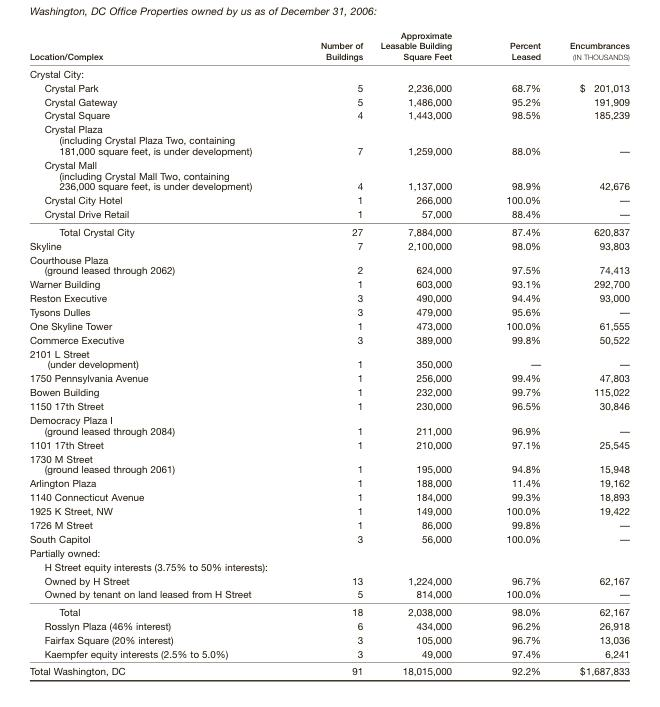table: (28, 29, 628, 676)
table column: (28, 29, 285, 676), (371, 29, 478, 676), (285, 29, 371, 676), (478, 29, 554, 676), (554, 29, 628, 676)
table column header: (28, 29, 628, 64)
table projected row header: (28, 64, 628, 80), (28, 545, 628, 559), (28, 559, 628, 572)
table row: (28, 121, 628, 157), (28, 29, 628, 64), (28, 157, 628, 192), (28, 251, 628, 276), (28, 412, 628, 437), (28, 346, 628, 370), (28, 451, 628, 475), (28, 64, 628, 80), (28, 206, 628, 222), (28, 222, 628, 238), (28, 586, 628, 602), (28, 602, 628, 618), (28, 646, 628, 661), (28, 661, 628, 676), (28, 93, 628, 107), (28, 107, 628, 121), (28, 192, 628, 206), (28, 276, 628, 290), (28, 290, 628, 304), (28, 304, 628, 318), (28, 318, 628, 332), (28, 332, 628, 346), (28, 370, 628, 384), (28, 384, 628, 398), (28, 398, 628, 412), (28, 437, 628, 451), (28, 475, 628, 489), (28, 489, 628, 503), (28, 503, 628, 517), (28, 517, 628, 531), (28, 531, 628, 545), (28, 545, 628, 559), (28, 572, 628, 586), (28, 618, 628, 632), (28, 632, 628, 646), (28, 80, 628, 93), (28, 238, 628, 251), (28, 559, 628, 572)
